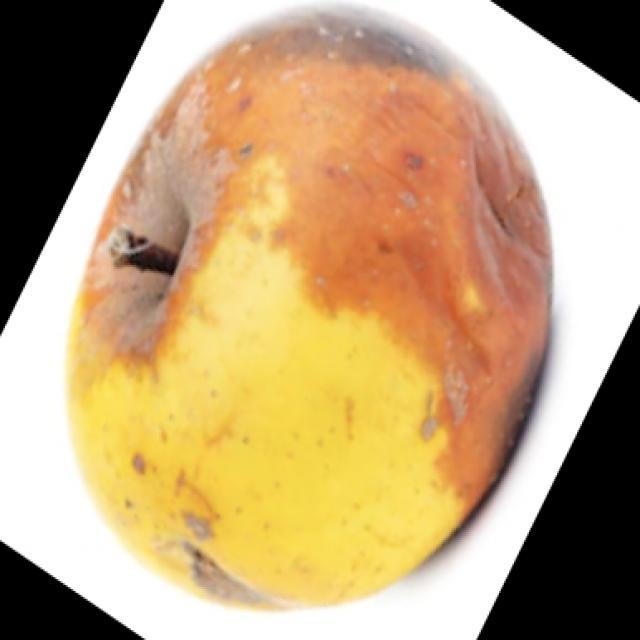Rotten: (76, 31, 550, 640)
